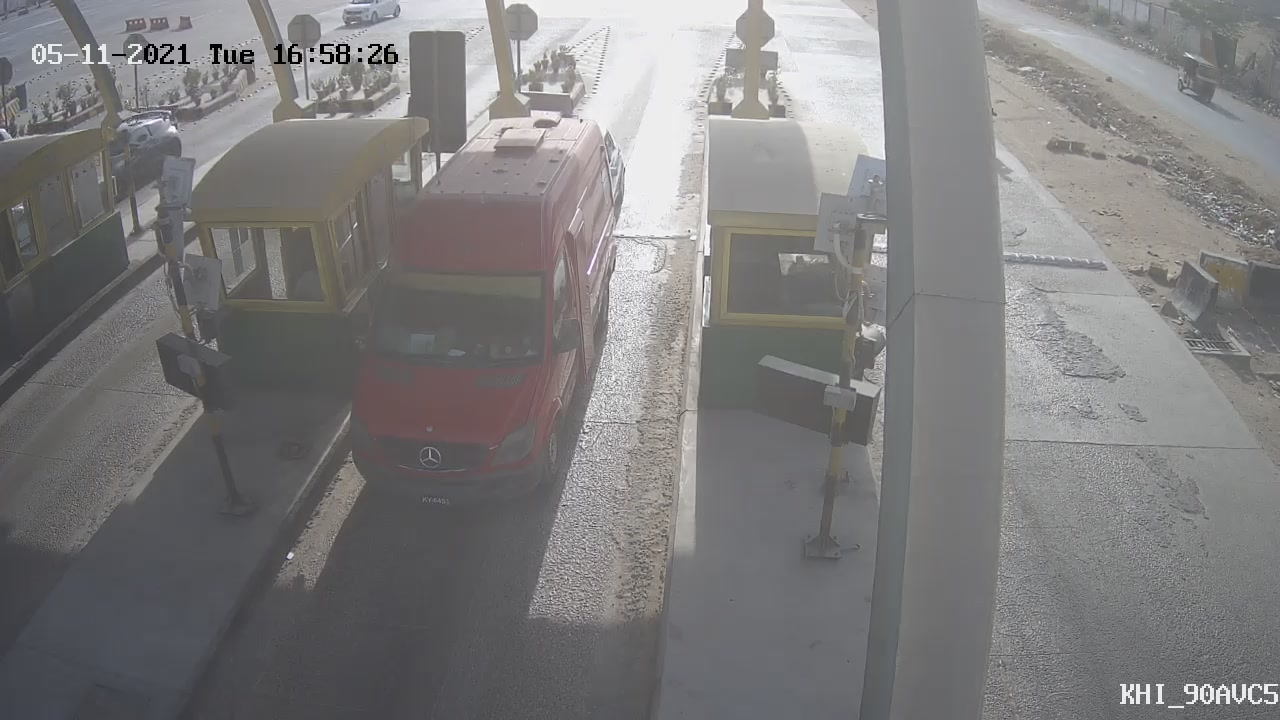F2: (317, 96, 642, 535)
